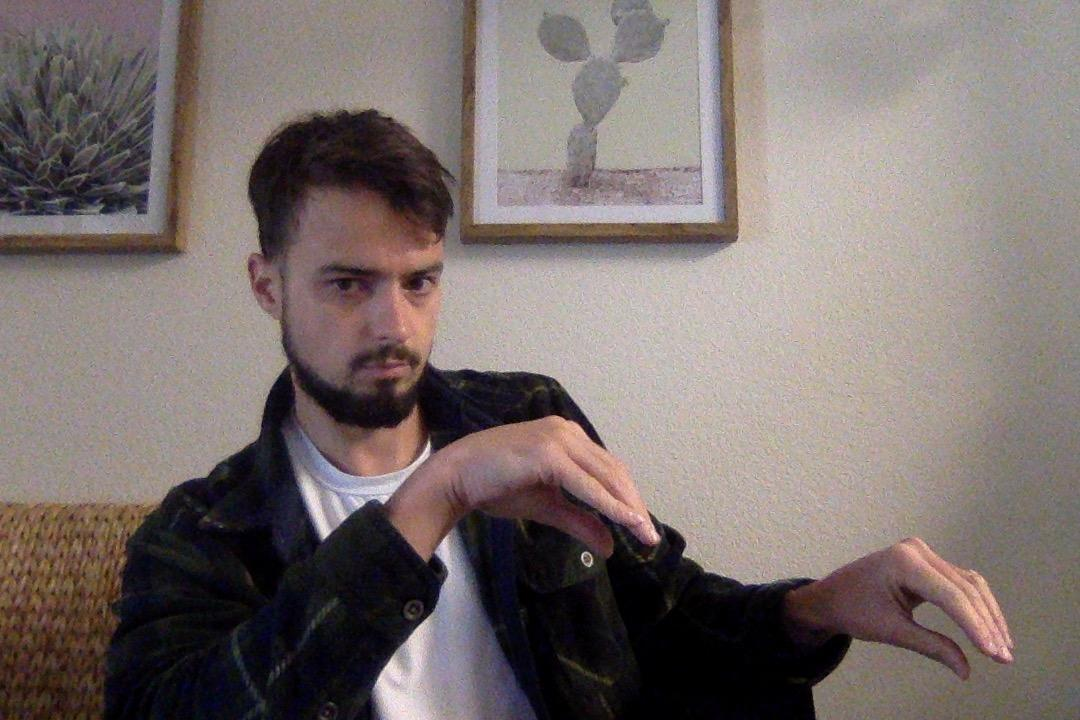Pinched-Fingers: (408, 415, 660, 559), (825, 518, 1016, 682)
